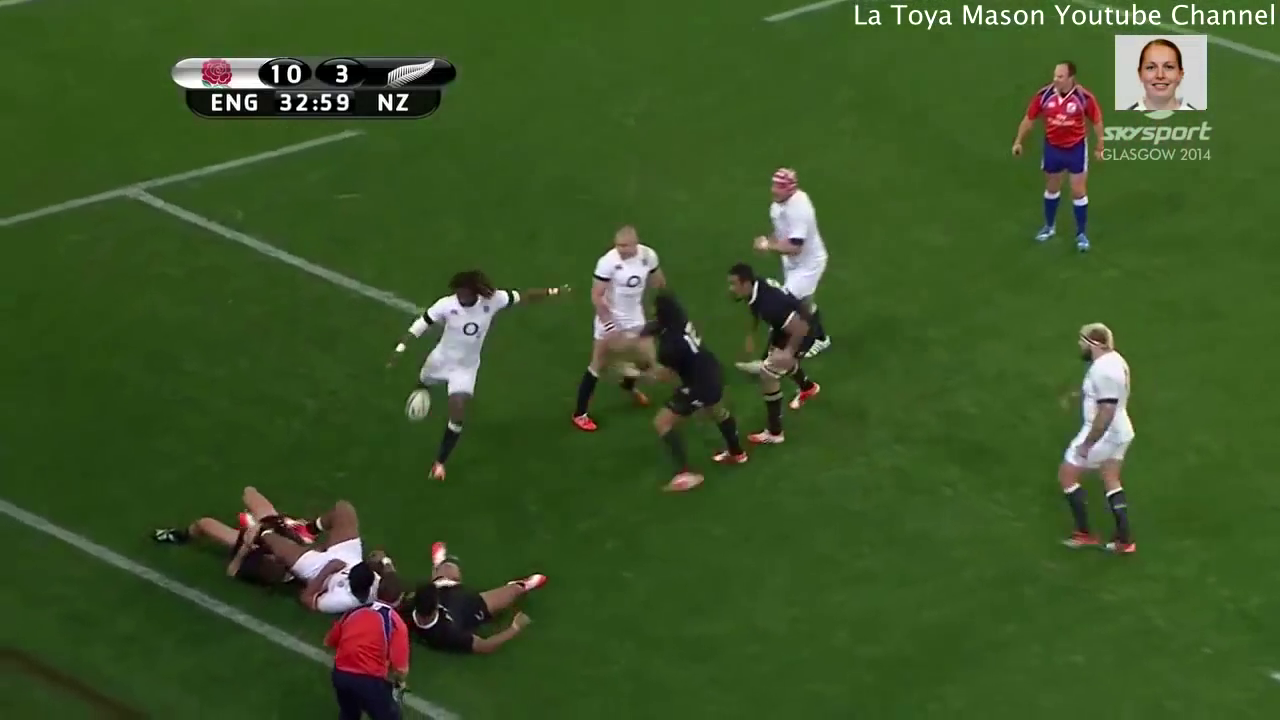ball: (395, 374, 448, 436)
player: (376, 260, 580, 497), (1045, 306, 1164, 572), (144, 448, 330, 599), (636, 271, 752, 494), (718, 252, 837, 462), (248, 476, 392, 635), (560, 218, 665, 432), (1005, 54, 1109, 264), (402, 532, 556, 654), (754, 160, 841, 364), (313, 566, 416, 720)
